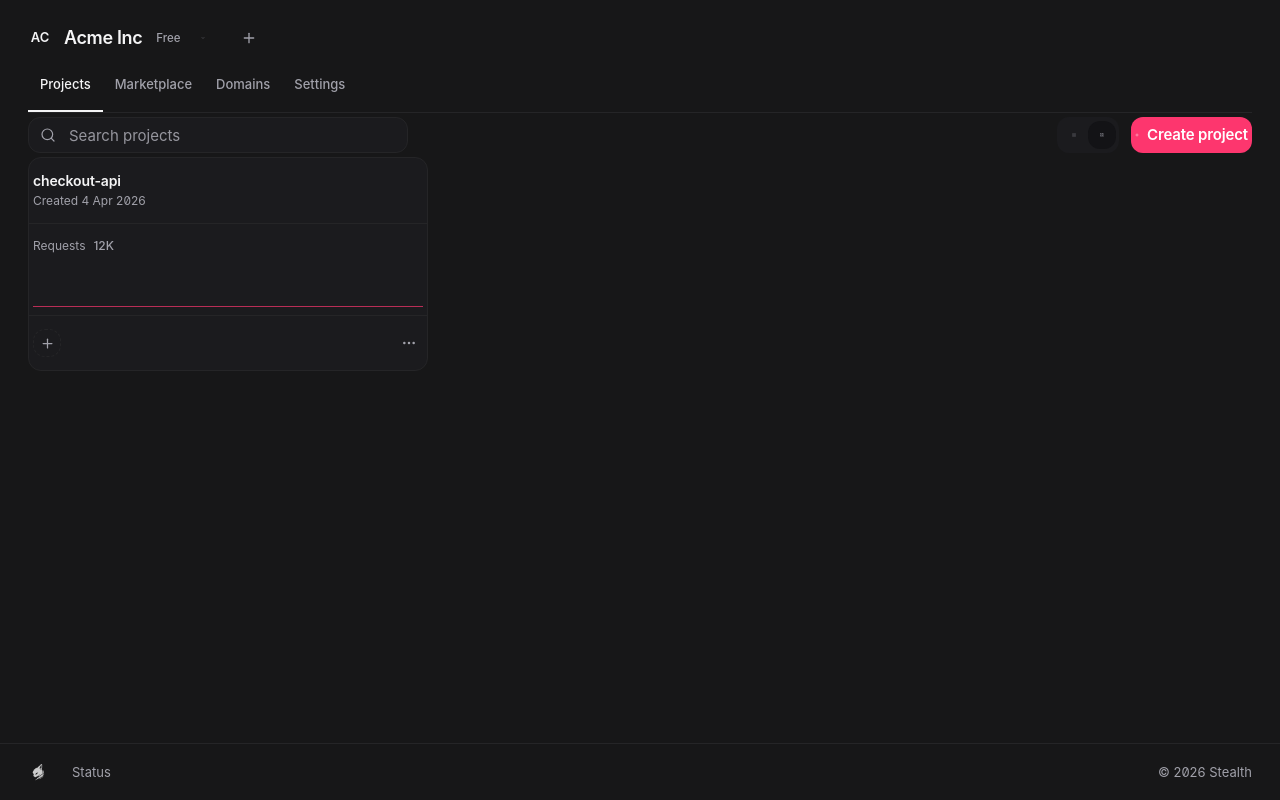
Test: UserHome › opens the create project dialog from the toolbar
The width and height of the screenshot is (1280, 800).
Click the button named "Create project" below "Requests" at point(47, 343), box x1=33 y1=329 x2=61 y2=357
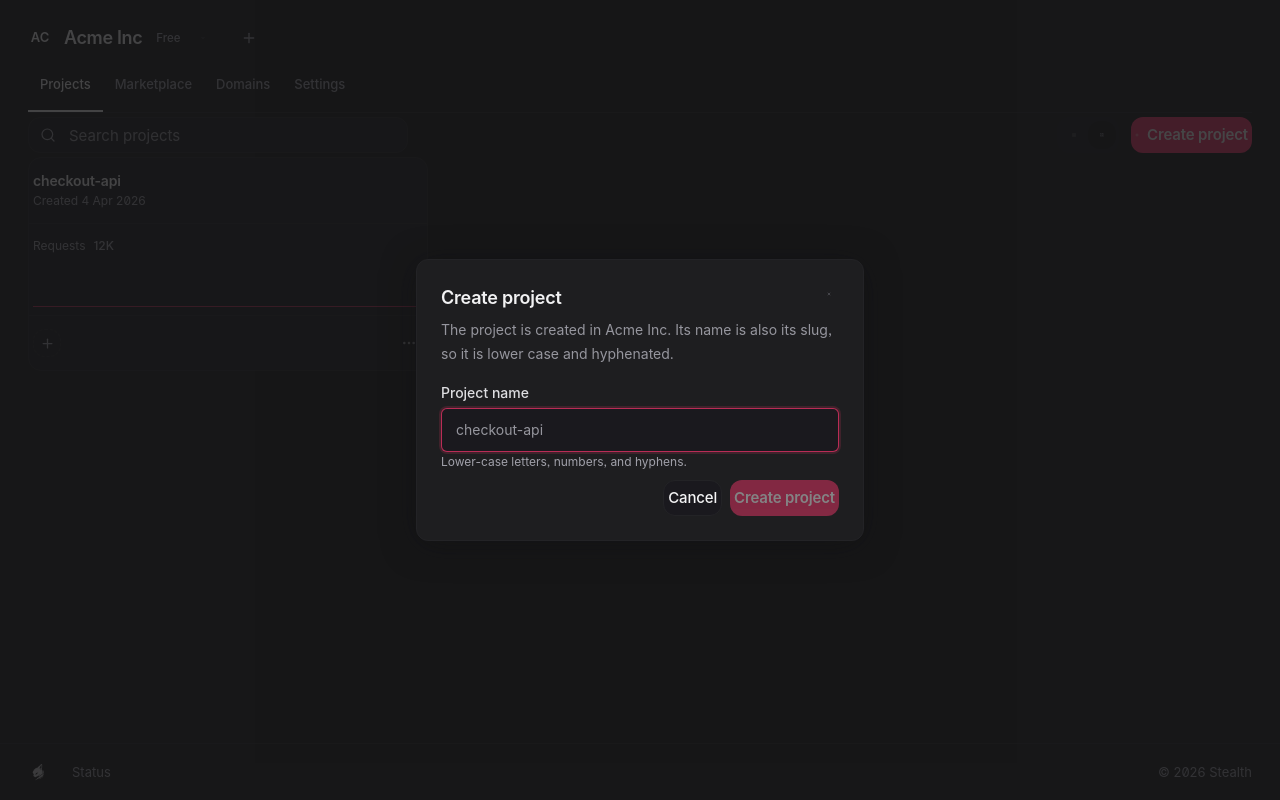
Expected: the dialog is shown, x1=416 y1=259 x2=864 y2=541
Expected: the heading "Create project" is shown, x1=441 y1=287 x2=562 y2=308
